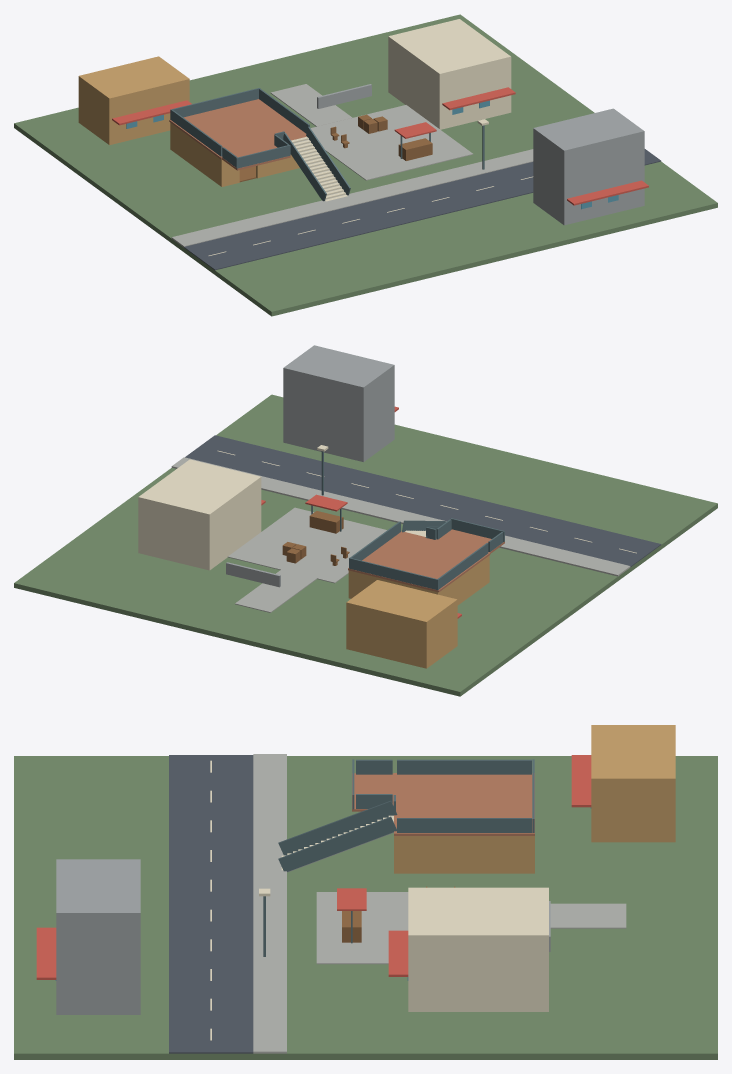
Rendered from poc-city.glb.
3 views of the same model, one above another, from view 1: azimuth 30°, elevation 25°; view 2: azimuth 150°, elevation 25°; view 3: azimuth 270°, elevation 25° (orthographic). The views are drawn at different scales.
Parts seen in each view (by area): view 1: GEO_ground, GEO_road, GEO_building_hotel, GEO_building_shop, GEO_building_home, GEO_square, GEO_sidewalk, GEO_bar_roof, GEO_alley, GEO_bar_side_-14.85, GEO_rail_roof_back, GEO_wall (+10 smaller); view 2: GEO_ground, GEO_road, GEO_building_hotel, GEO_building_shop, GEO_building_home, GEO_square, GEO_sidewalk, GEO_bar_roof, GEO_alley, GEO_bar_side_-14.85, GEO_rail_roof_back, GEO_wall (+6 smaller); view 3: GEO_ground, GEO_road, GEO_building_shop, GEO_building_hotel, GEO_building_home, GEO_sidewalk, GEO_bar_roof, GEO_bar_side_-5.15, GEO_square, GEO_rail_roof_west, GEO_rail_roof_east, GEO_alley (+9 smaller).
Part boxes in pixels (x1,y1,x2,y2): GEO_ground: [14, 14, 717, 316]; GEO_road: [184, 149, 661, 270]; GEO_building_hotel: [533, 108, 644, 225]; GEO_building_shop: [388, 19, 511, 129]; GEO_building_home: [78, 56, 189, 145]; GEO_square: [310, 105, 473, 180]; GEO_sidewalk: [171, 149, 533, 247]; GEO_bar_roof: [169, 99, 306, 159]; GEO_alley: [270, 84, 352, 126]; GEO_bar_side_-14.85: [171, 124, 220, 185]; GEO_rail_roof_back: [170, 88, 260, 119]; GEO_wall: [317, 84, 371, 108]; GEO_ground: [14, 394, 717, 696]; GEO_road: [185, 435, 661, 567]; GEO_building_hotel: [283, 345, 394, 461]; GEO_building_shop: [138, 459, 261, 570]; GEO_building_home: [346, 580, 457, 668]; GEO_square: [228, 507, 386, 583]; GEO_sidewalk: [171, 457, 630, 576]; GEO_bar_roof: [348, 531, 490, 592]; GEO_alley: [235, 569, 316, 612]; GEO_bar_side_-14.85: [439, 557, 487, 605]; GEO_rail_roof_back: [349, 557, 438, 590]; GEO_wall: [226, 562, 280, 587]; GEO_ground: [14, 756, 717, 1059]; GEO_road: [169, 755, 253, 1053]; GEO_building_shop: [408, 887, 548, 1011]; GEO_building_hotel: [56, 859, 140, 1014]; GEO_building_home: [591, 725, 675, 842]; GEO_sidewalk: [253, 754, 286, 1053]; GEO_bar_roof: [394, 773, 534, 835]; GEO_bar_side_-5.15: [398, 836, 530, 873]; GEO_square: [316, 892, 408, 964]; GEO_rail_roof_west: [397, 759, 531, 774]; GEO_rail_roof_east: [397, 818, 531, 832]; GEO_alley: [550, 903, 626, 928].
Bounding box in the file's own units: 50 × 8.5 × 50.
